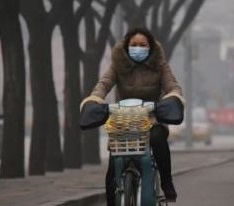person: (78, 26, 186, 206)
